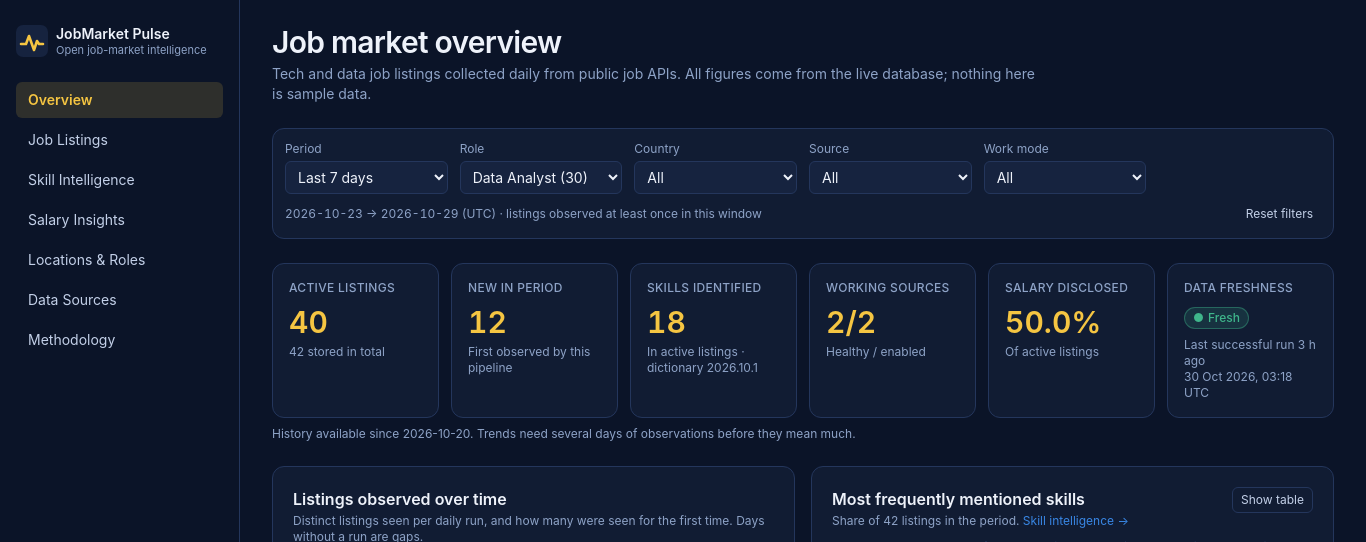
Test: Navigation › links to every section and keeps period filters
Expected: the link "Overview" is shown, [16,82,223,118]
Expected: the link "Job Listings" is shown, [28,131,108,148]
Click the link "Data Sources" at point(72, 299), box [28,291,117,308]
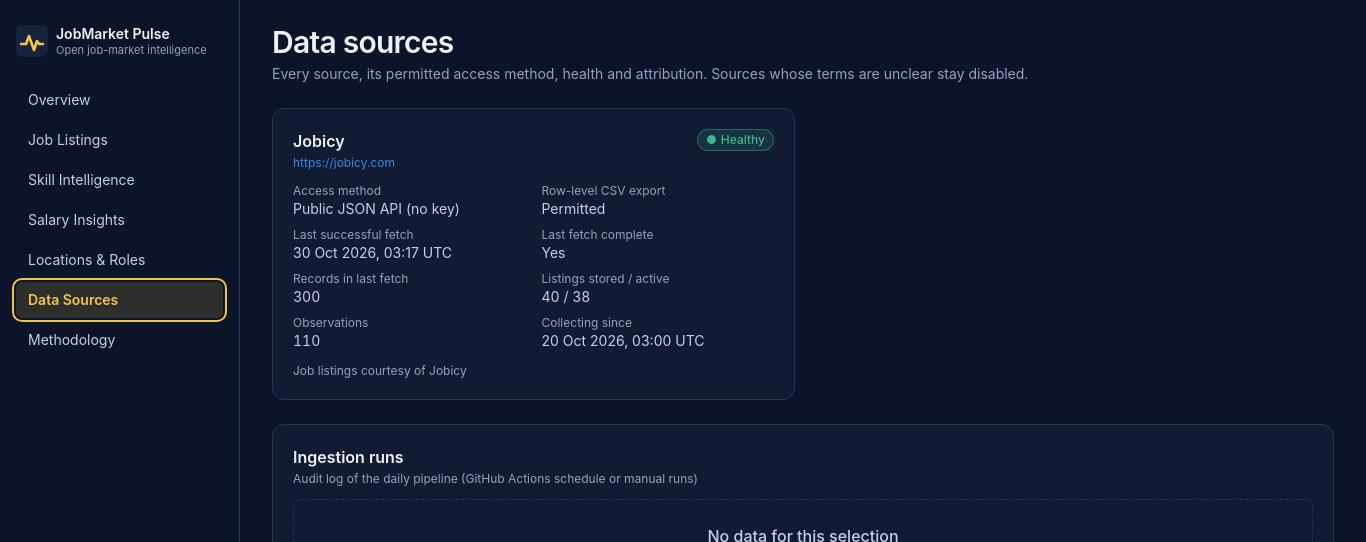
Now the heading "Data sources" is shown, box [272,24,454,60]
Now the text "Job listings courtesy of Jobicy" is shown, box [293,363,467,378]
